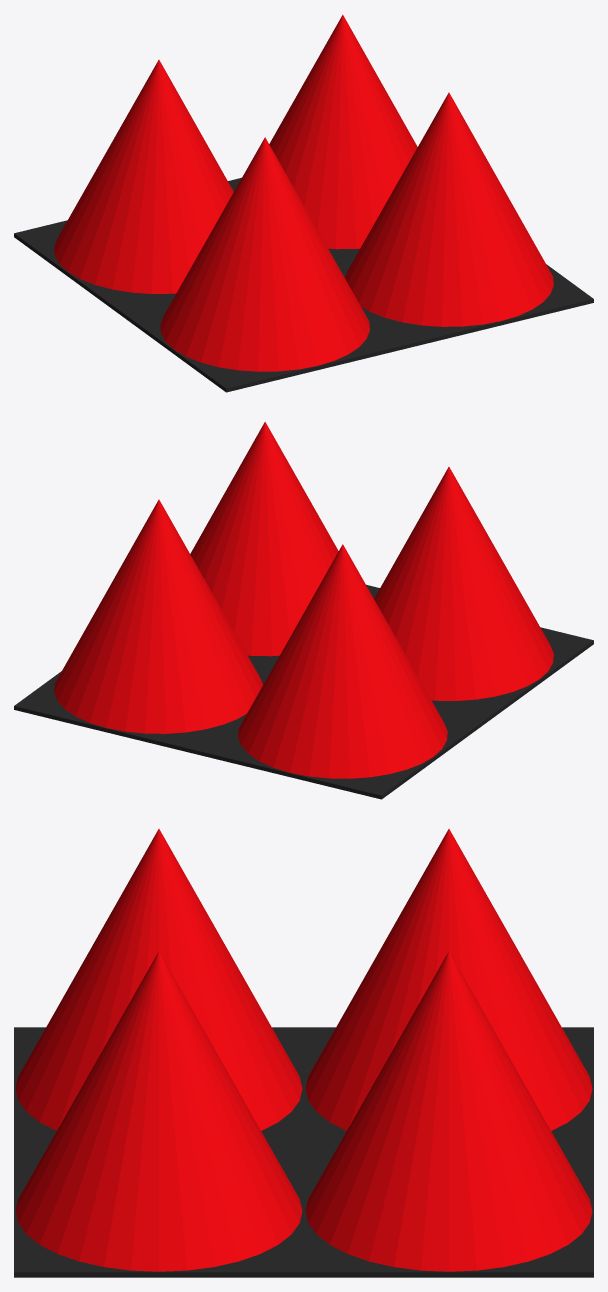
Rendered from Spikes.glb.
3 views of the same model, one above another, from view 1: azimuth 30°, elevation 25°; view 2: azimuth 150°, elevation 25°; view 3: azimuth 270°, elevation 25° (orthographic). The views are drawn at different scales.
Visible parts, largest first — view 1: Spikes, Plate; view 2: Spikes, Plate; view 3: Spikes, Plate.
Part boxes in pixels (x1=…): Spikes: x1=54, y1=14, x2=553, y2=371; Plate: x1=14, y1=177, x2=593, y2=392; Spikes: x1=54, y1=421, x2=553, y2=778; Plate: x1=14, y1=584, x2=593, y2=799; Spikes: x1=15, y1=829, x2=592, y2=1271; Plate: x1=14, y1=1027, x2=593, y2=1277.
Size of the model in its own units: 2 by 1.01 by 2.
